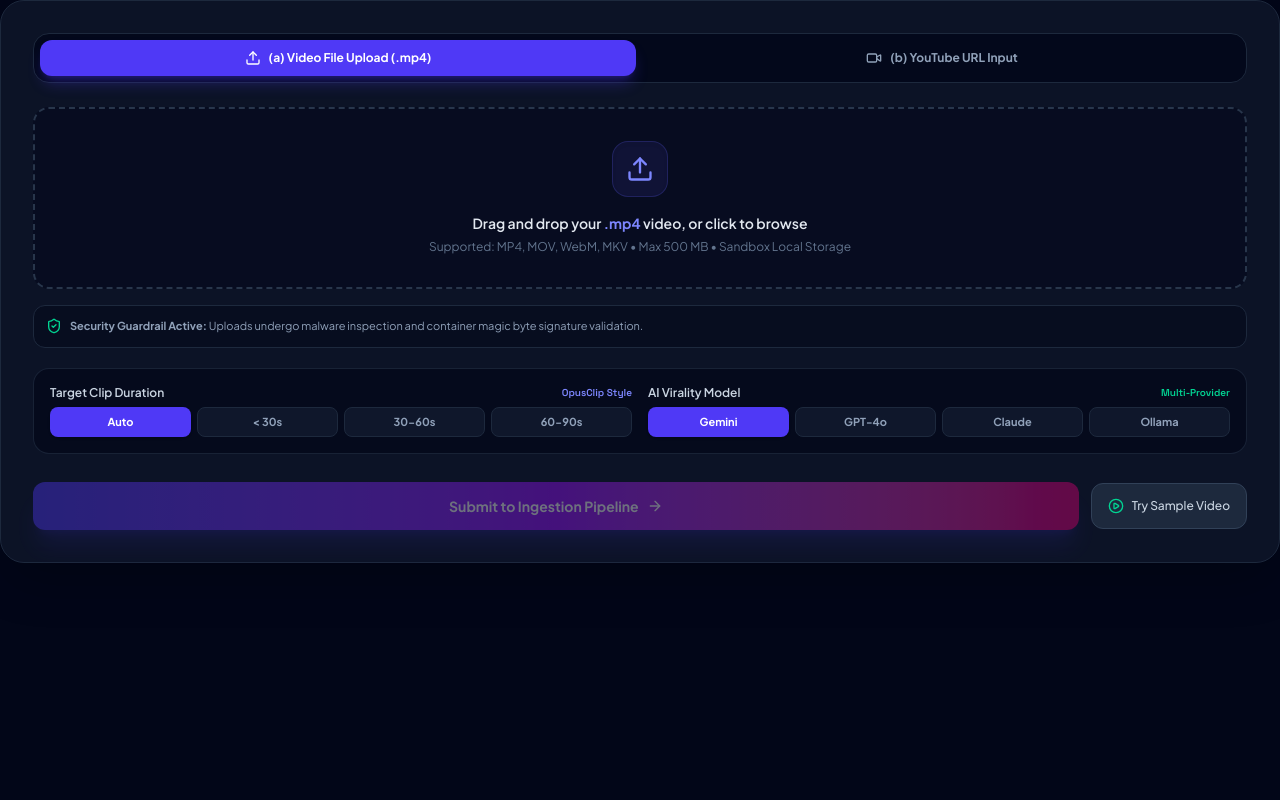
Test: IngestionFlow Component › displays policy warning when submitting YouTube link without permissions
Click the button "(b) YouTube URL Input" at (942, 58), box [644,40,1240,76]
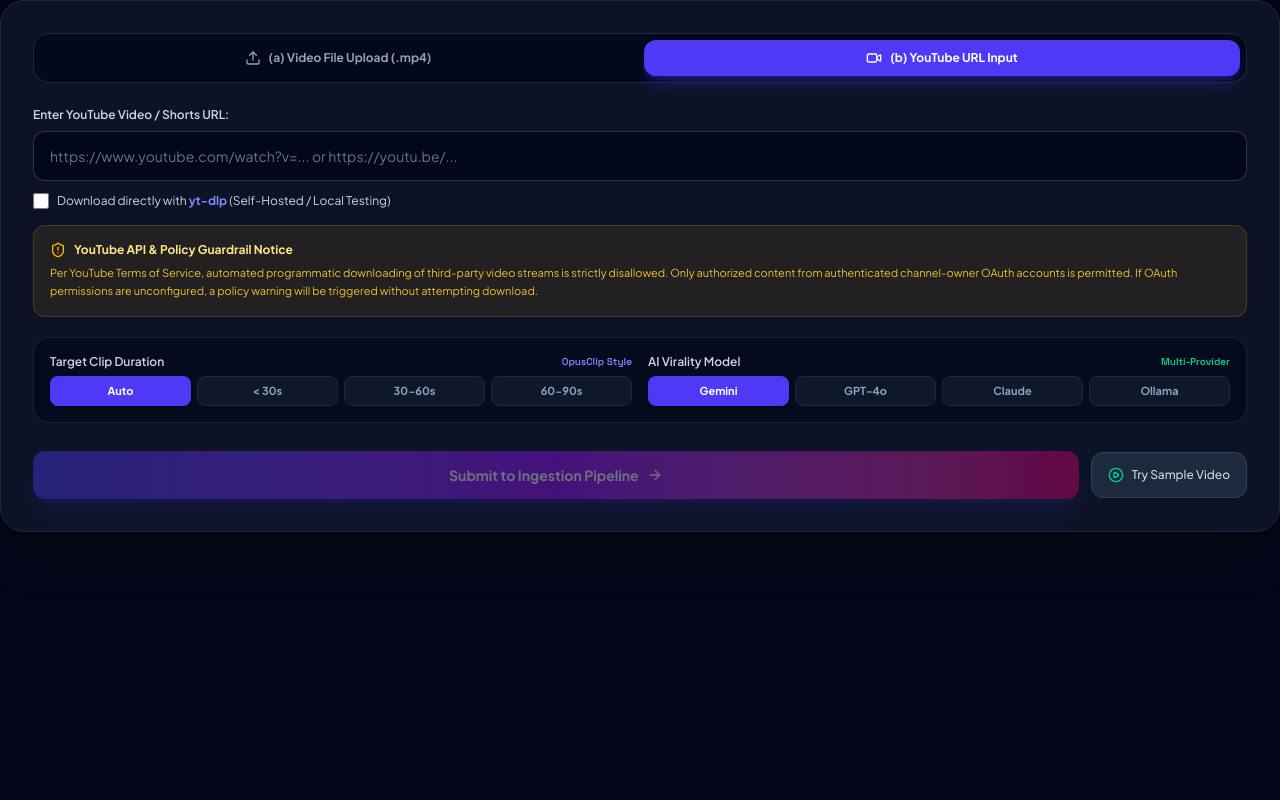
Type "https://www.youtube.com/watch?v=dQw4w9WgXcQ" into the field with placeholder "https://www.youtube.com/watch?v=... or https://youtu.be/..." at (640, 156), box [33,131,1247,181]
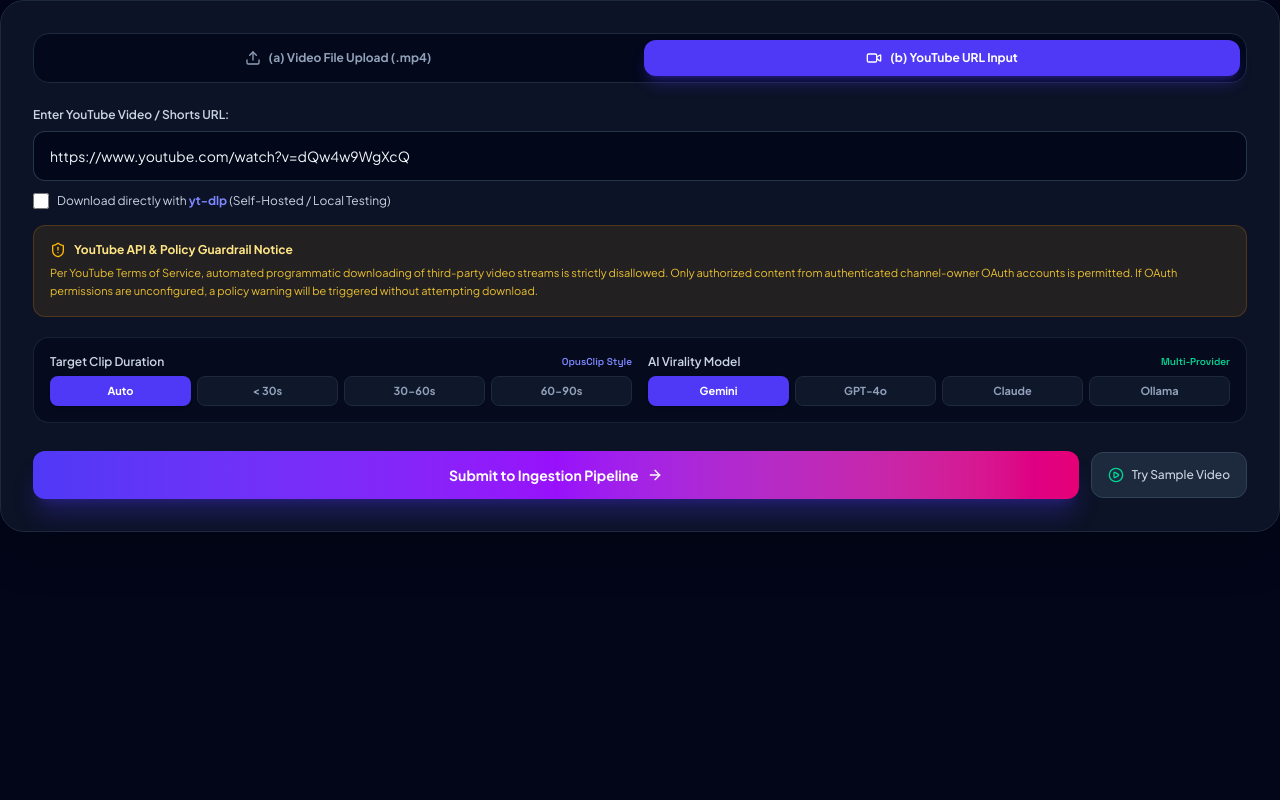
Click the button "Submit to Ingestion Pipeline" at (556, 475), box [33,451,1079,499]
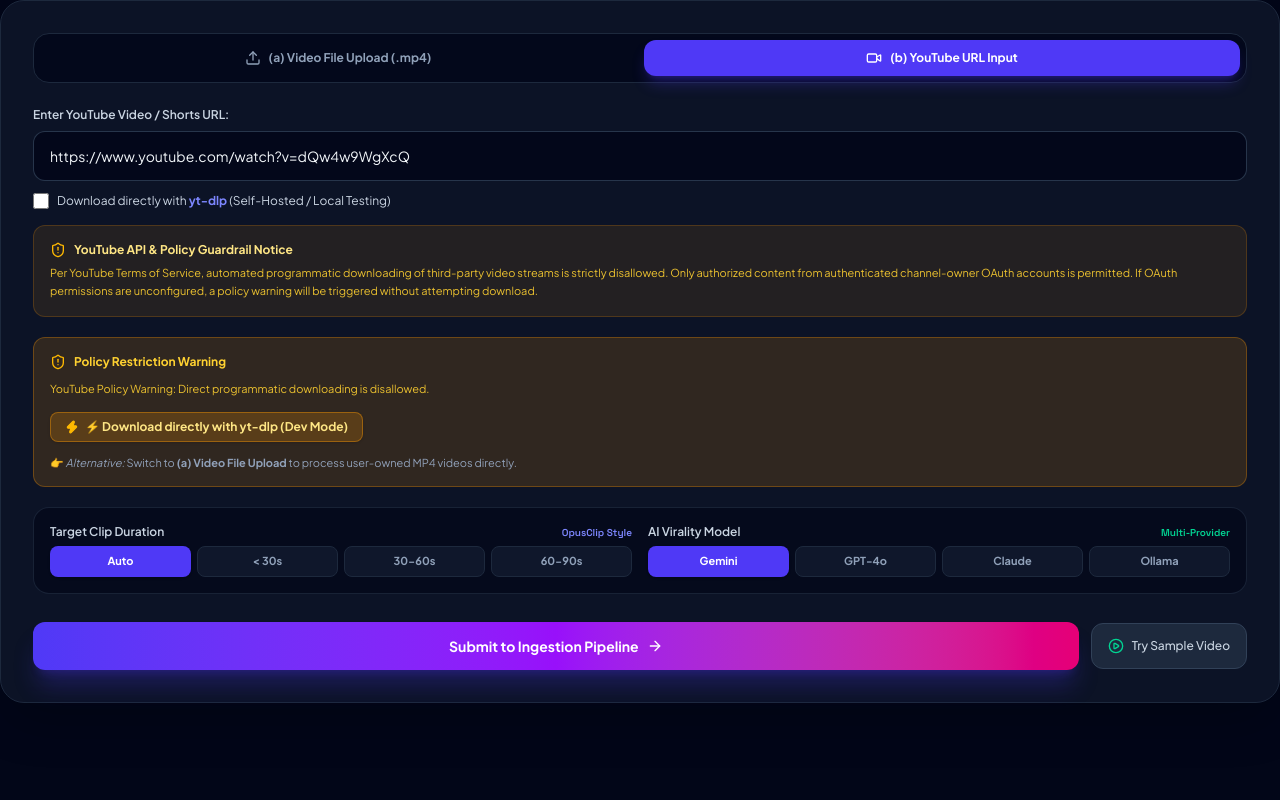
Expected: the text "Policy Restriction Warning" is shown, [74,354,226,370]
Expected: the text "YouTube Policy Warning: Direct programmatic downloading is disallowed" is shown, [50,382,430,395]
